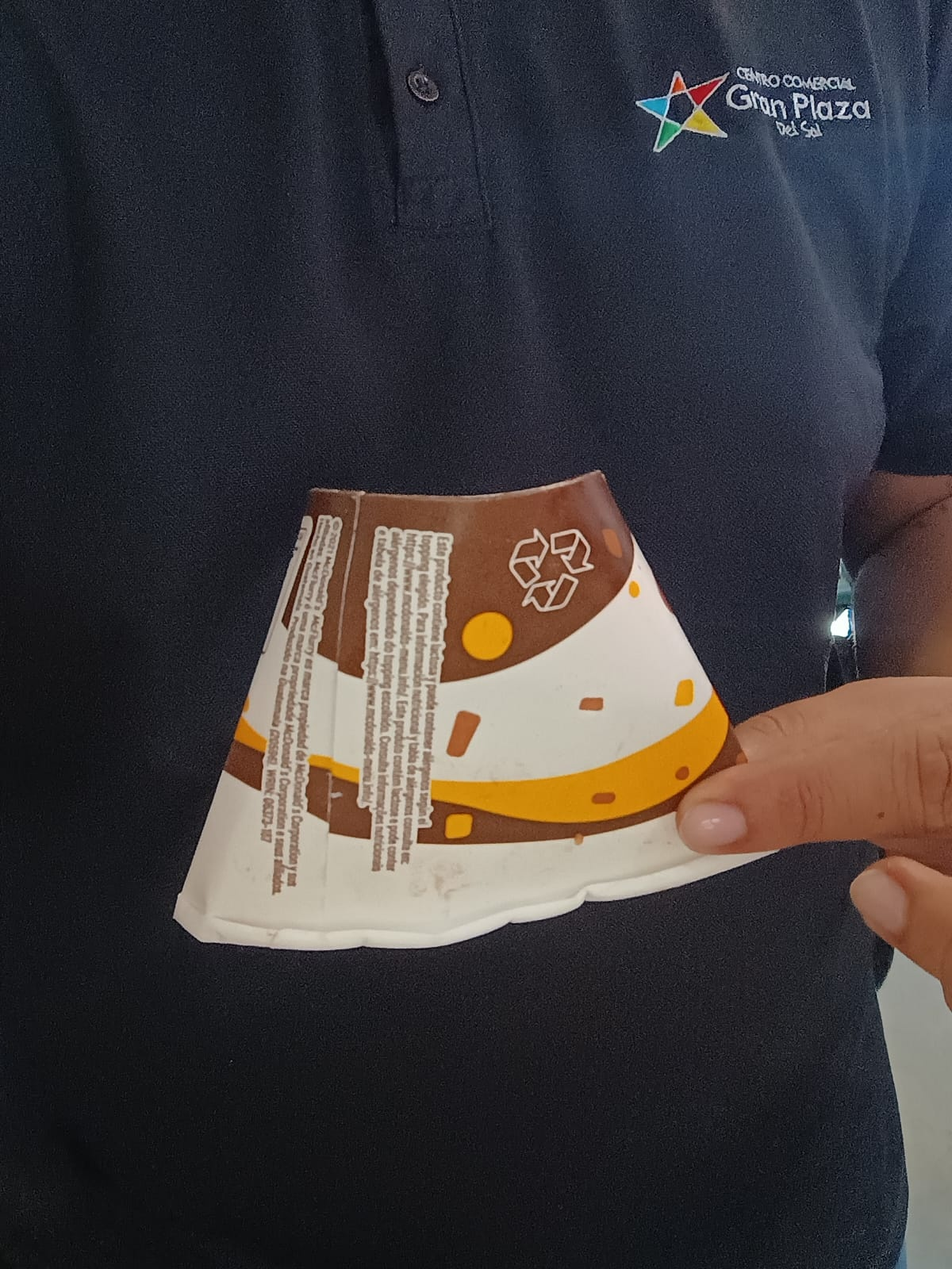Carton: (175, 469, 790, 952)
